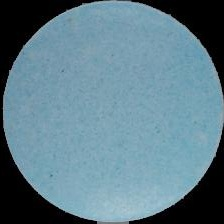68788-9934: (0, 0, 224, 224)
